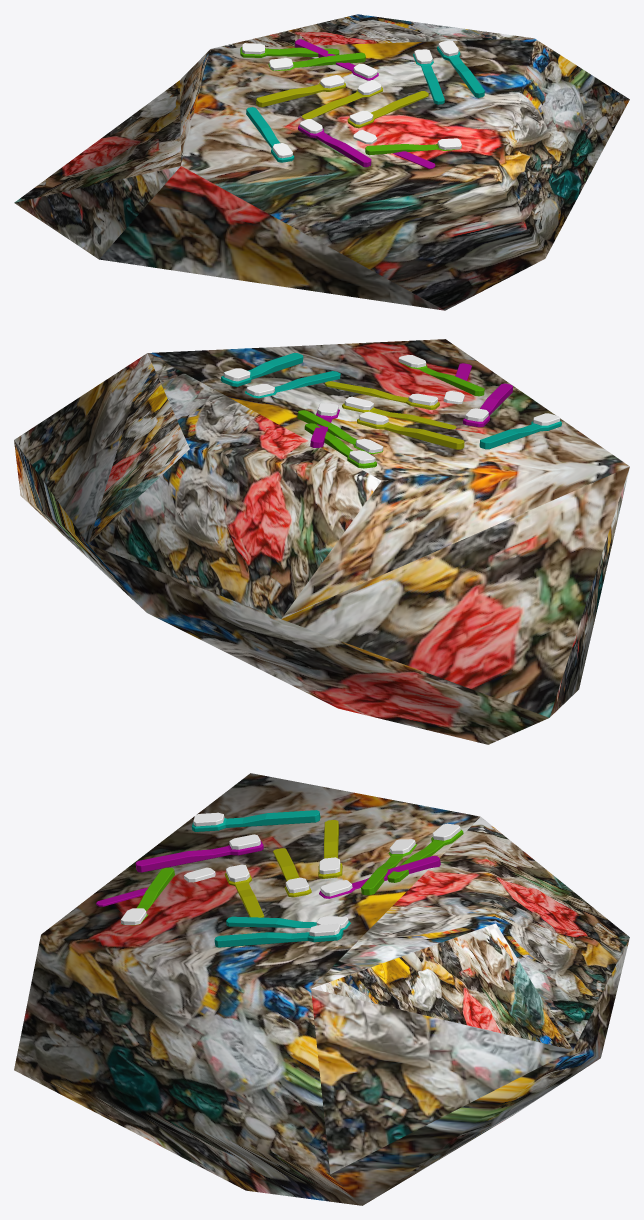
File: CHECKSKRALD3.fbx
The picture shows the model from 3 angles, top to bottom: view 1: azimuth 30°, elevation 25°; view 2: azimuth 150°, elevation 25°; view 3: azimuth 270°, elevation 25°; orthographic projection. The views are drawn at different scales.
Visible parts, largest first — view 1: Icosphere; view 2: Icosphere; view 3: Icosphere.
Boxes of the visible parts, x1,y1,x2,y2 form: Icosphere: (14, 14, 629, 310); Icosphere: (14, 339, 629, 744); Icosphere: (14, 773, 629, 1205).
Bounding box in the file's own units: 139 × 44.4 × 107.
6 materials, 1 textured.
